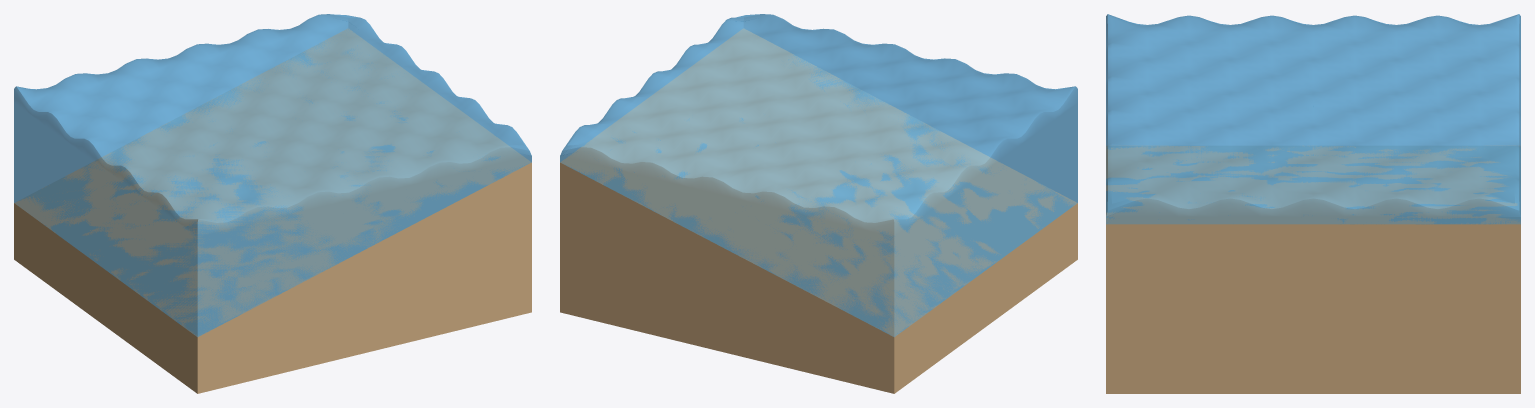
Rendered from wave_20220512.fbx.
3 renders of one model, left to right at view 1: azimuth 30°, elevation 25°; view 2: azimuth 150°, elevation 25°; view 3: azimuth 270°, elevation 25°, orthographic. The views are drawn at different scales.
Visible parts, largest first — view 1: Plane, Plane.001; view 2: Plane, Plane.001; view 3: Plane, Plane.001.
Boxes of the visible parts, x1,y1,x2,y2 form: Plane: (14,28,531,393); Plane.001: (14,14,531,337); Plane: (560,28,1077,393); Plane.001: (560,14,1077,337); Plane: (1106,146,1520,393); Plane.001: (1106,14,1520,224).
Size of the model in its own units: 525 by 261 by 500.
